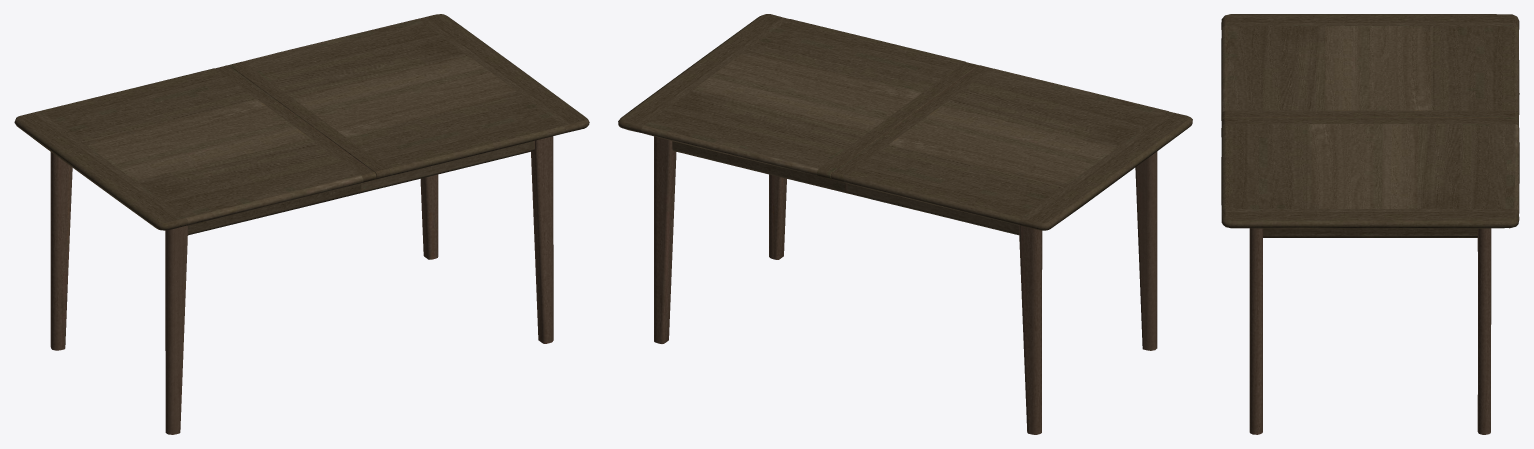
The model's file is skansnas_sto_rozkadany_00565758.glb.
3 views of the same model, side by side, from view 1: azimuth 30°, elevation 25°; view 2: azimuth 150°, elevation 25°; view 3: azimuth 270°, elevation 25° (orthographic).
Parts seen in each view (by area): view 1: skansnas_sto_rozkadany_00565758; view 2: skansnas_sto_rozkadany_00565758; view 3: skansnas_sto_rozkadany_00565758.
Part boxes in pixels (x1,y1,x2,y2): skansnas_sto_rozkadany_00565758: (14, 14, 589, 434); skansnas_sto_rozkadany_00565758: (618, 14, 1192, 434); skansnas_sto_rozkadany_00565758: (1221, 14, 1519, 434).
Size of the model in its own units: 1.5 by 0.7503 by 0.9013.
1 material, 1 textured.
